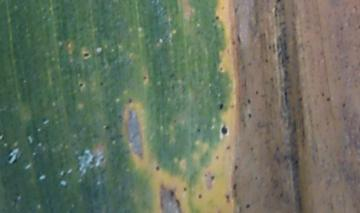tarspot: (219, 123, 228, 135), (341, 98, 347, 109), (81, 51, 90, 58), (126, 95, 133, 104), (154, 164, 161, 172), (97, 80, 105, 87), (181, 185, 188, 193), (102, 124, 111, 130), (253, 89, 260, 96), (78, 80, 84, 88), (225, 143, 231, 151), (219, 102, 224, 111), (141, 75, 148, 81), (325, 96, 332, 102), (233, 162, 238, 170), (196, 125, 201, 133), (214, 14, 220, 20), (196, 193, 202, 199), (233, 182, 237, 191), (244, 203, 250, 209), (219, 65, 224, 72), (264, 57, 269, 64), (210, 176, 216, 181), (247, 112, 252, 118), (247, 97, 251, 104), (225, 194, 230, 199)
